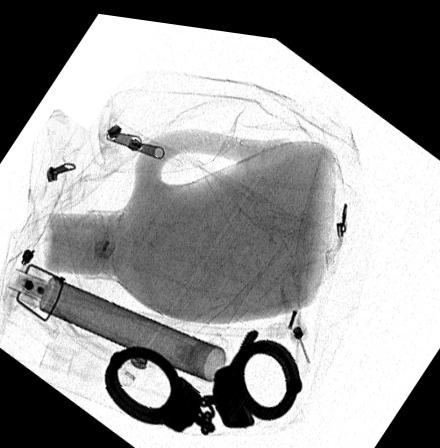HandCuffs: (102, 322, 303, 430)
